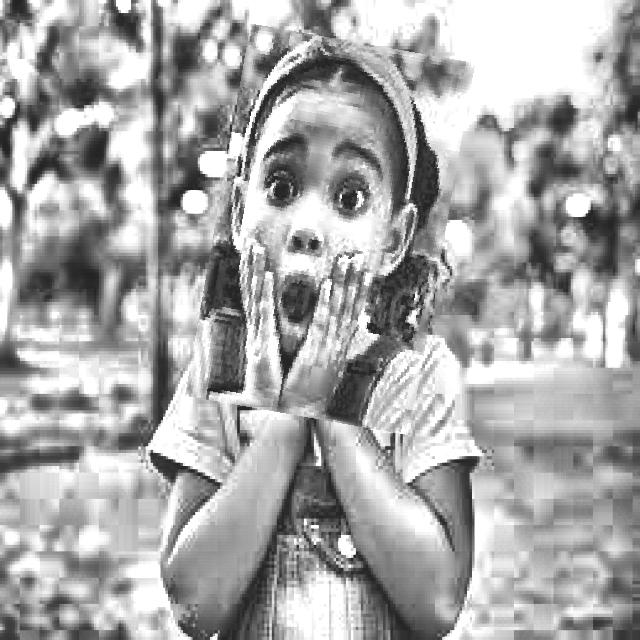surprise: (200, 33, 460, 427)
